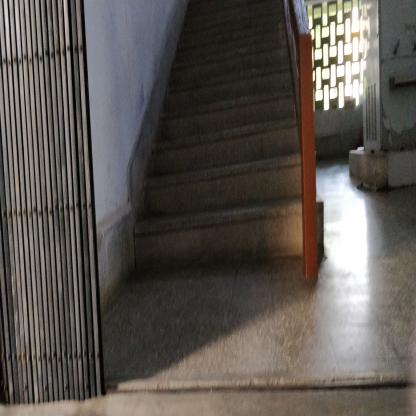stairs: (169, 56, 286, 287)
